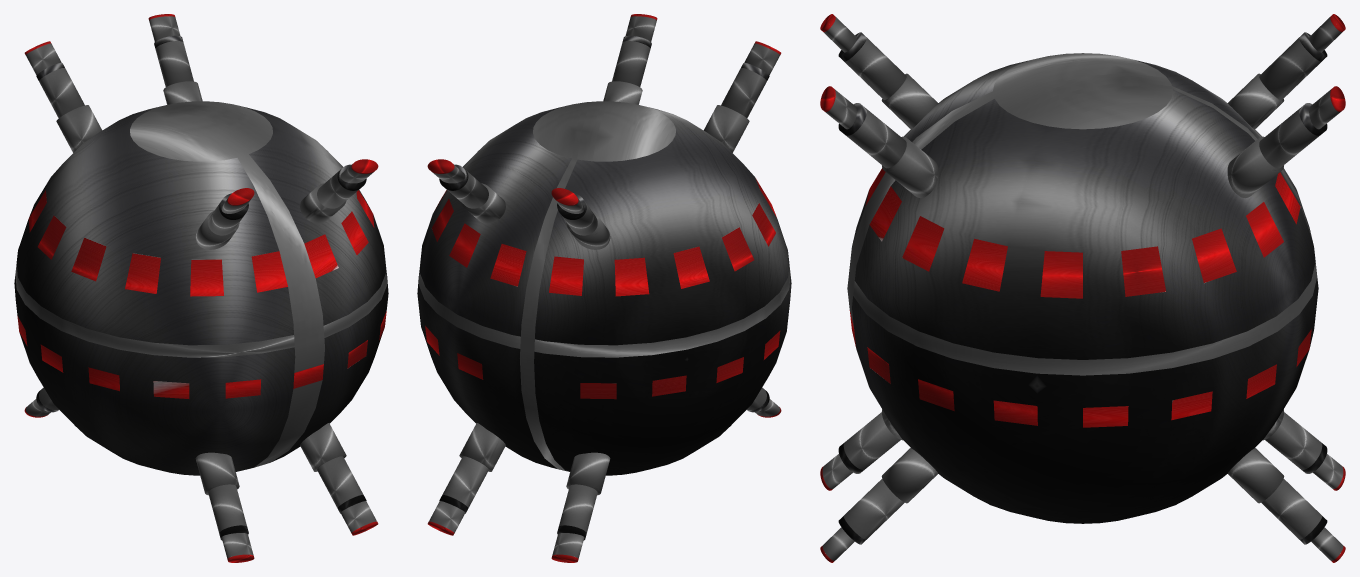
The model's file is bombaNpc.fbx.
3 renders of one model, left to right at view 1: azimuth 30°, elevation 25°; view 2: azimuth 150°, elevation 25°; view 3: azimuth 270°, elevation 25°, orthographic. The views are drawn at different scales.
Parts seen in each view (by area): view 1: Sphere, Sphere_007, Sphere_004, Sphere_002; view 2: Sphere, Sphere_007, Sphere_004, Sphere_002; view 3: Sphere, Sphere_007, Sphere_004, Sphere_002.
Boxes of the visible parts, box(x1,y1,x2,y2) form: Sphere: box(14, 101, 388, 475); Sphere_007: box(36, 35, 366, 540); Sphere_004: box(56, 81, 346, 495); Sphere_002: box(24, 14, 378, 562); Sphere: box(417, 101, 791, 475); Sphere_007: box(439, 35, 769, 540); Sphere_004: box(459, 81, 749, 495); Sphere_002: box(427, 14, 781, 562); Sphere: box(847, 53, 1318, 523); Sphere_007: box(838, 32, 1327, 544); Sphere_004: box(881, 73, 1284, 503); Sphere_002: box(820, 14, 1345, 562).
Bounding box in the file's own units: 0.5 × 0.5502 × 0.5574.
